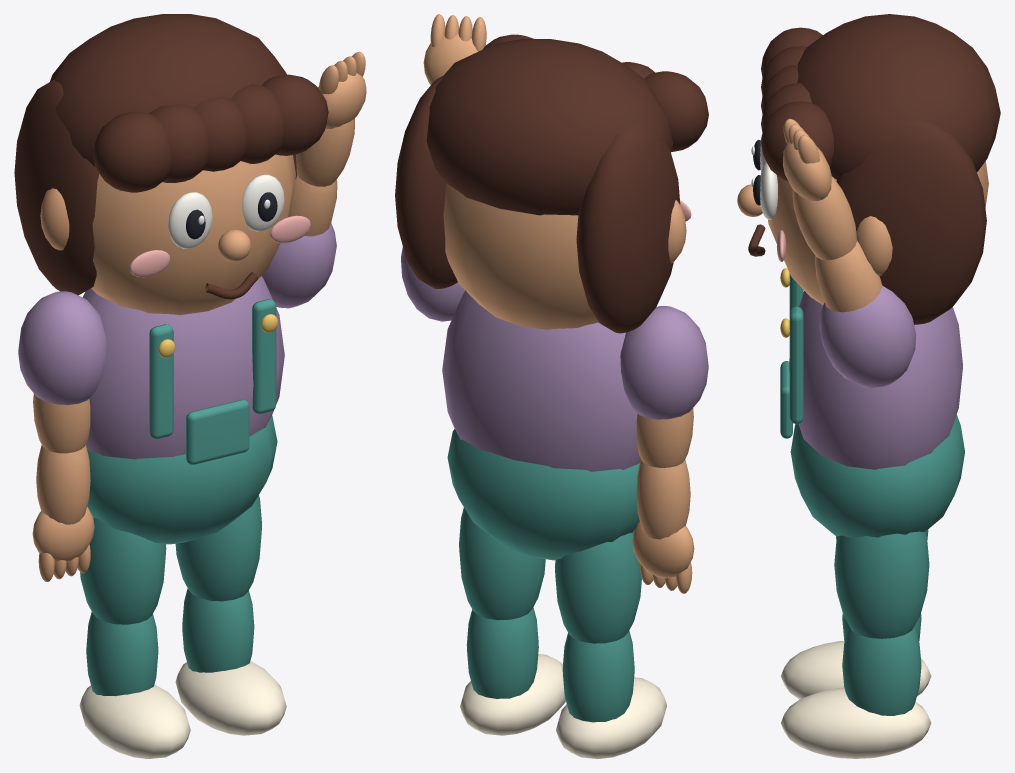
The model's file is mommy-wave.glb.
3 renders of one model, left to right at view 1: azimuth 30°, elevation 25°; view 2: azimuth 150°, elevation 25°; view 3: azimuth 270°, elevation 25°, orthographic.
Visible parts, largest first — view 1: soft shirt, hair cap, clay head, overalls, bob hair, shirt sleeve, trouser leg, little shoe.001, little shoe, trouser leg.001, fringe, lower leg (+22 smaller); view 2: hair cap, soft shirt, bob hair, overalls, clay head, shirt sleeve, trouser leg, bob hair.001, trouser leg.001, lower leg, lower leg.001, little shoe (+8 smaller); view 3: hair cap, bob hair.001, soft shirt, overalls, trouser leg.001, little shoe.001, shirt sleeve.001, lower leg.001, forearm.001, upper arm.001, clay head, little shoe (+12 smaller).
Part boxes in pixels (x1,y1,x2,y2): soft shirt: [82, 276, 284, 459]; hair cap: [50, 14, 286, 167]; clay head: [91, 154, 295, 315]; overalls: [87, 415, 277, 544]; bob hair: [14, 79, 99, 295]; shirt sleeve: [18, 291, 106, 404]; trouser leg: [80, 517, 166, 624]; little shoe.001: [175, 661, 286, 735]; little shoe: [79, 684, 190, 758]; trouser leg.001: [175, 495, 261, 601]; fringe: [93, 111, 170, 192]; lower leg: [86, 612, 158, 696]; hair cap: [426, 39, 673, 215]; soft shirt: [442, 290, 640, 471]; bob hair: [576, 124, 680, 333]; overalls: [447, 429, 639, 560]; clay head: [443, 183, 598, 329]; shirt sleeve: [620, 306, 708, 419]; trouser leg: [555, 529, 641, 643]; bob hair.001: [395, 75, 457, 288]; trouser leg.001: [459, 507, 545, 620]; lower leg: [562, 631, 634, 722]; lower leg.001: [466, 607, 538, 698]; little shoe: [556, 677, 666, 758]; hair cap: [797, 14, 1000, 179]; bob hair.001: [836, 120, 986, 324]; soft shirt: [788, 291, 962, 469]; overalls: [790, 415, 964, 537]; trouser leg.001: [834, 531, 929, 638]; little shoe.001: [781, 687, 931, 758]; shirt sleeve.001: [819, 285, 916, 387]; lower leg.001: [842, 626, 921, 715]; forearm.001: [792, 176, 856, 260]; upper arm.001: [814, 240, 882, 312]; clay head: [766, 161, 988, 305]; little shoe: [781, 641, 931, 699].
Size of the model in its own units: 0.9886 by 2.14 by 0.7315.
